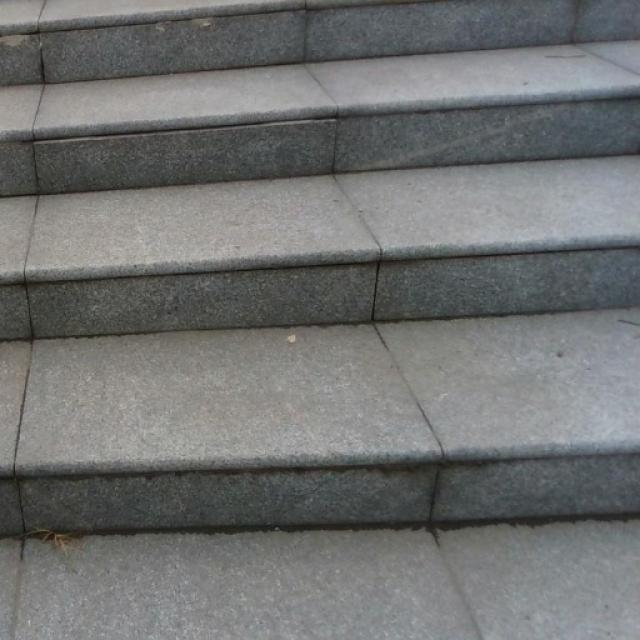Stairs: (0, 0, 639, 538)
